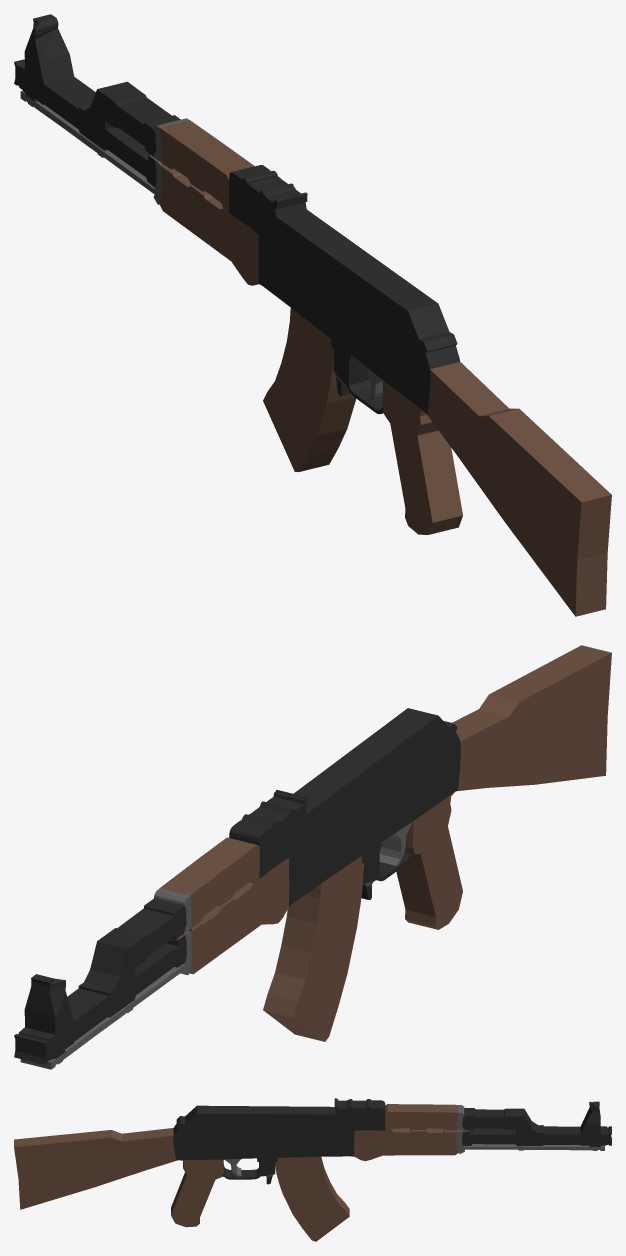
3 views of the same model, one above another, from view 1: azimuth 30°, elevation 25°; view 2: azimuth 150°, elevation 25°; view 3: azimuth 270°, elevation 25° (orthographic). The views are drawn at different scales.
Parts seen in each view (by area): view 1: Ak47; view 2: Ak47; view 3: Ak47.
Boxes of the visible parts, x1,y1,x2,y2 form: Ak47: [14, 14, 611, 616]; Ak47: [14, 645, 611, 1069]; Ak47: [14, 1098, 611, 1241].
Size of the model in its own units: 13.3 by 108 by 429.
